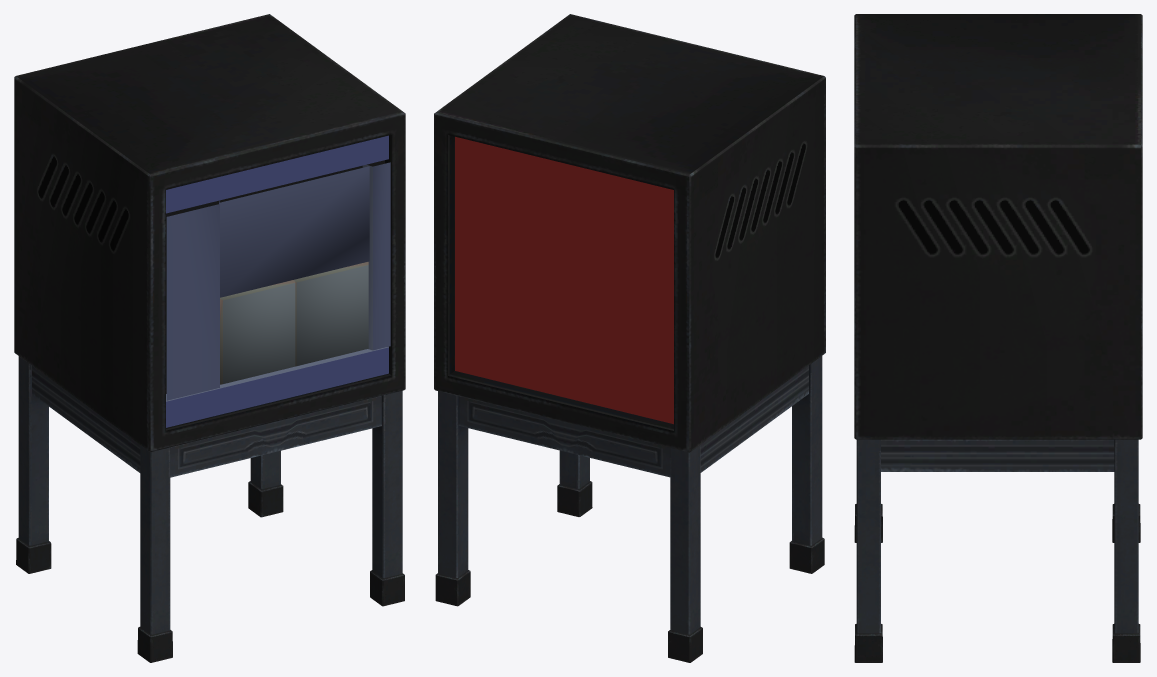
File: computer_scanroom_small.dae
3 renders of one model, left to right at view 1: azimuth 30°, elevation 25°; view 2: azimuth 150°, elevation 25°; view 3: azimuth 270°, elevation 25°, orthographic. The views are drawn at different scales.
Visible parts, largest first — view 1: small, servers__2_; view 2: small, servers__2_; view 3: small.
Part boxes in pixels (x1,y1,x2,y2): small: (14,14,405,662); servers__2_: (166,135,390,427); small: (434,14,825,662); servers__2_: (455,136,673,424); small: (854,14,1142,662).
Bounding box in the file's own units: 0.6789 × 1.23 × 0.6232.
